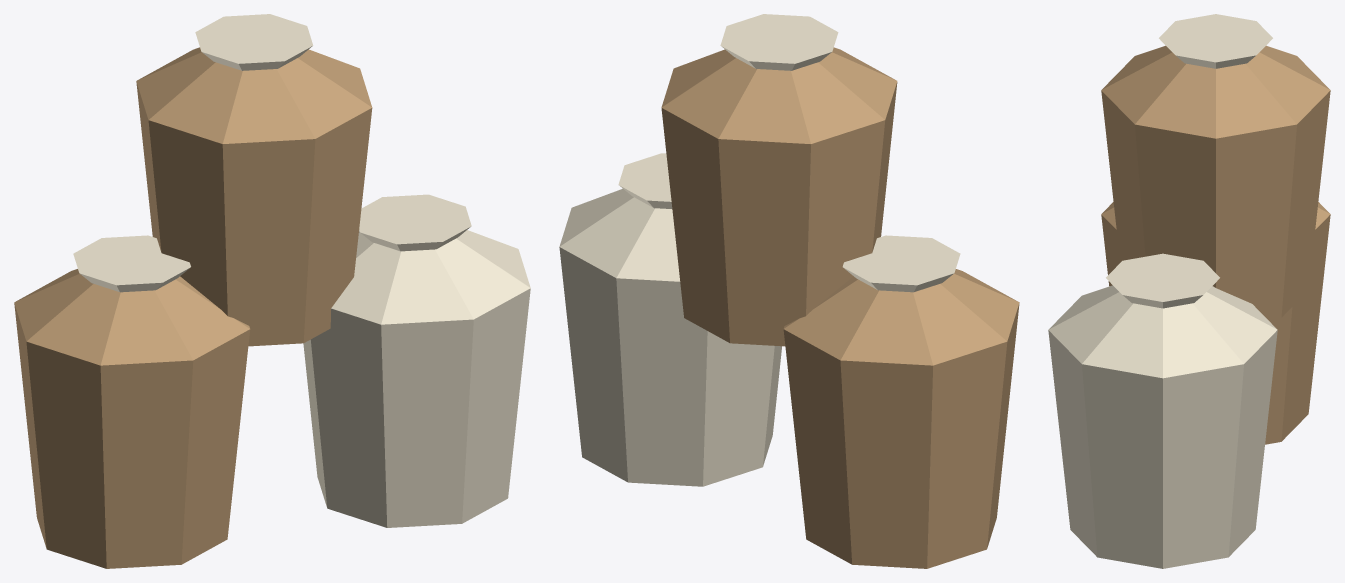
File: supplies_sack_pile.glb
3 renders of one model, left to right at view 1: azimuth 30°, elevation 25°; view 2: azimuth 150°, elevation 25°; view 3: azimuth 270°, elevation 25°, orthographic. The views are drawn at different scales.
Visible parts, largest first — view 1: supplies_sack_pile; view 2: supplies_sack_pile; view 3: supplies_sack_pile.
Part boxes in pixels (x1=…): supplies_sack_pile: x1=14, y1=14, x2=530, y2=568; supplies_sack_pile: x1=559, y1=14, x2=1019, y2=568; supplies_sack_pile: x1=1048, y1=14, x2=1330, y2=568.
Size of the model in its own units: 1.14 by 1.08 by 0.64.
